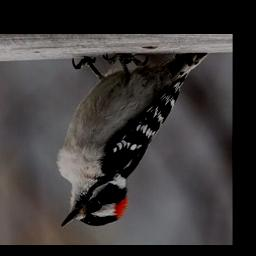Woodpecker: (55, 50, 206, 227)
